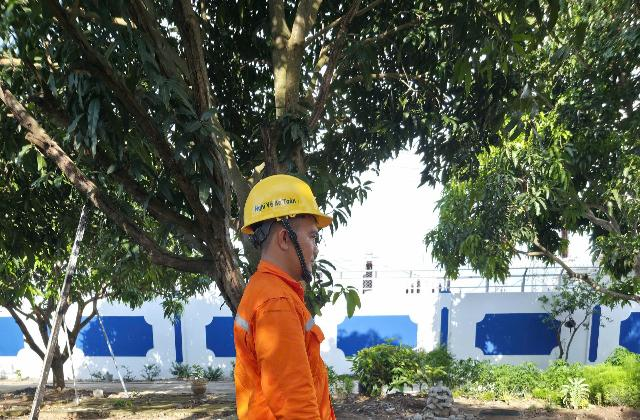helmet: (228, 167, 349, 241)
